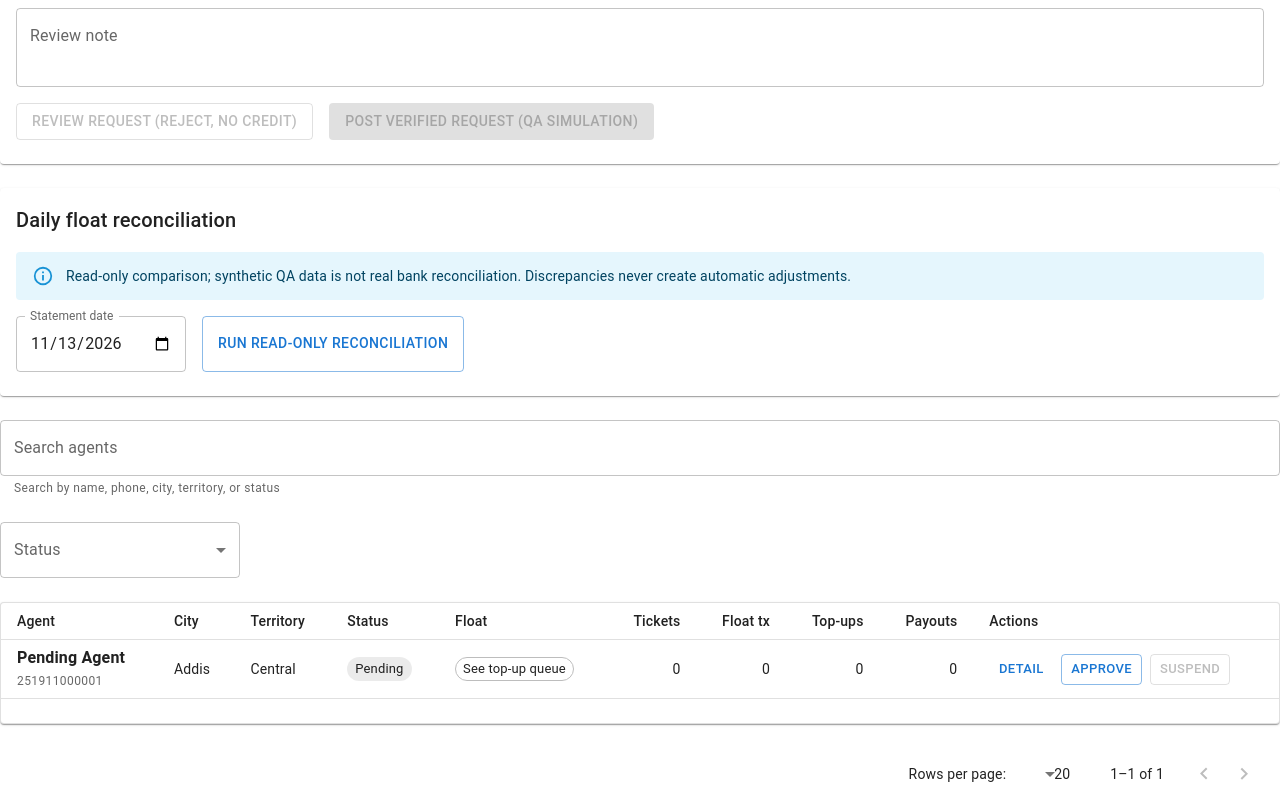
AgentsPage float top-up review › keeps the approval dialog open with the error after an API failure
(page scrolled)
Click the button "Approve": (1102, 670) 1061,654 -> 1142,685
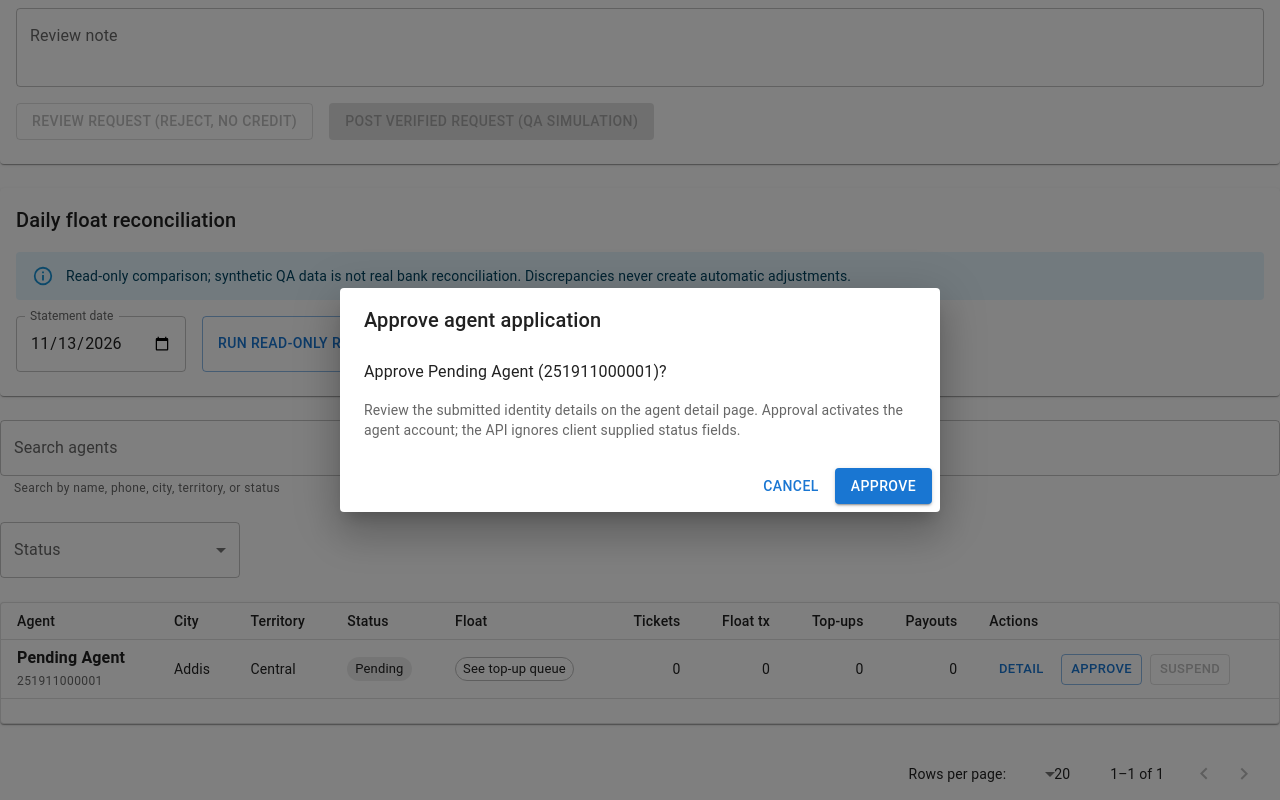
Click the button "Approve": (883, 486) 835,468 -> 932,504
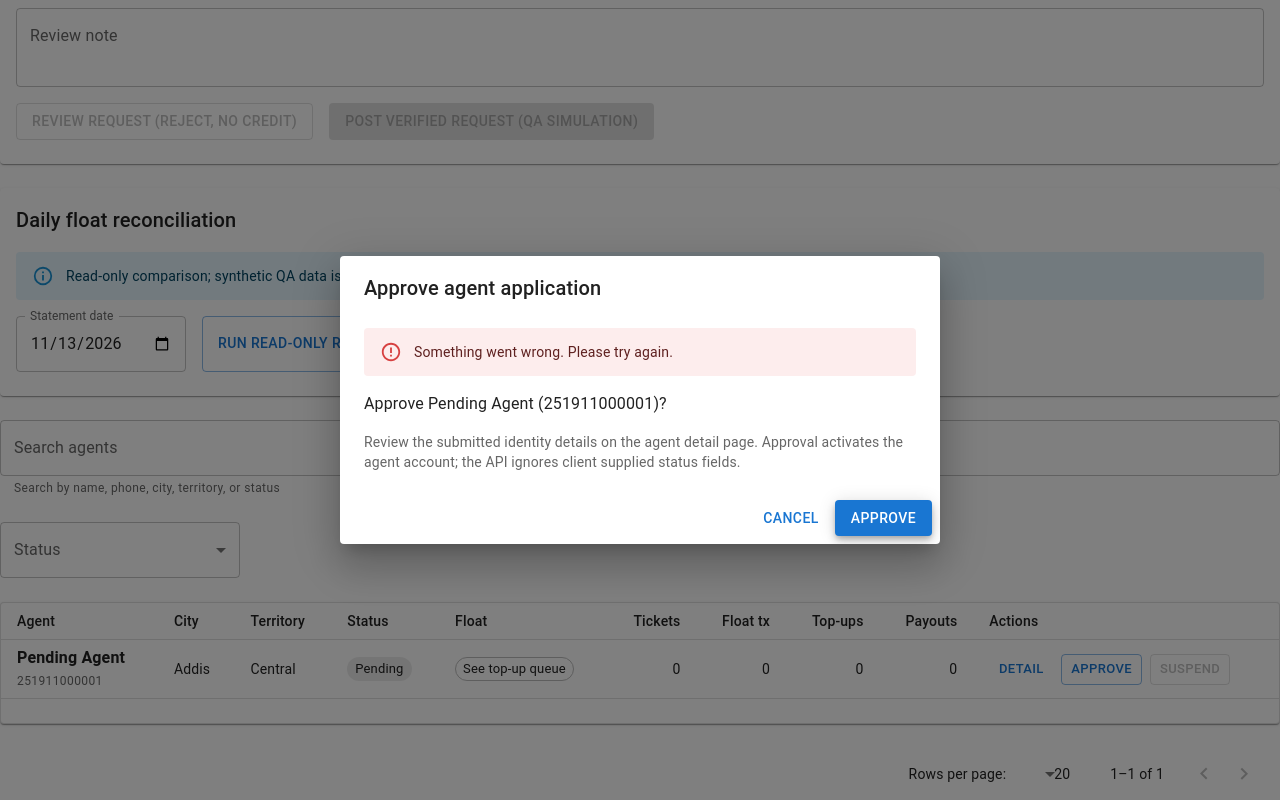
Now the text "Approve Pending Agent (251911000001)?" is shown, box 364,394 -> 667,413
Now the message reads "Something went wrong. Please try again.", box 414,344 -> 673,360
